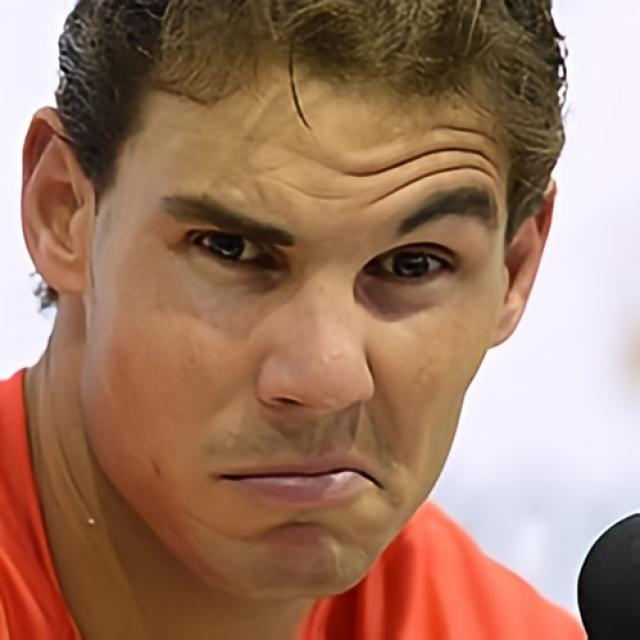disgust: (88, 0, 508, 600)
